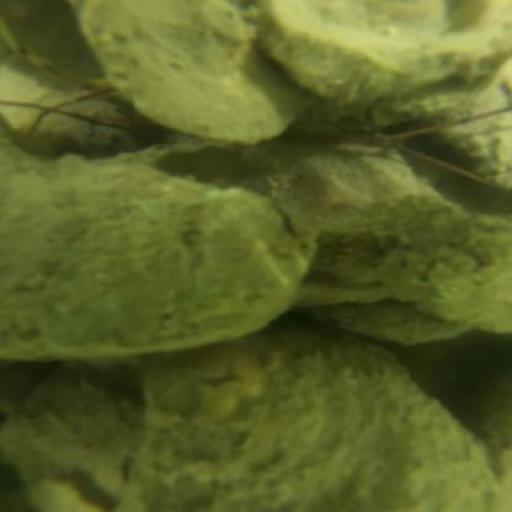Oyster-Closed: (125, 338, 502, 512), (1, 164, 298, 360), (282, 151, 503, 322), (80, 1, 297, 147), (259, 1, 488, 114), (4, 368, 141, 506)
